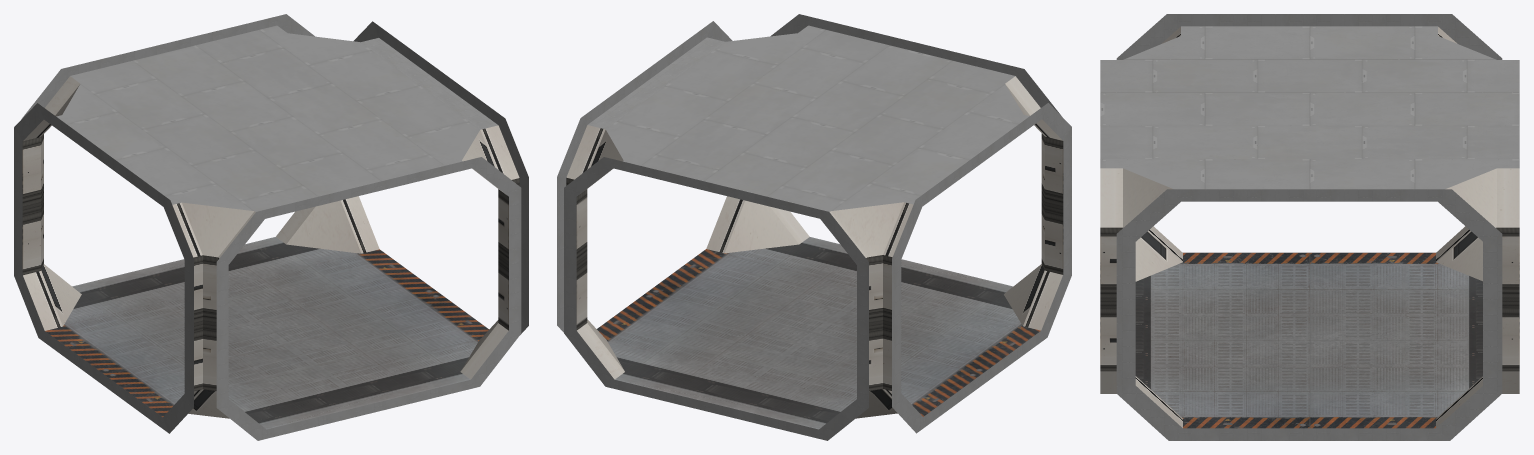
Rendered from lab_cross.FBX.
3 views of the same model, side by side, from view 1: azimuth 30°, elevation 25°; view 2: azimuth 150°, elevation 25°; view 3: azimuth 270°, elevation 25° (orthographic). The views are drawn at different scales.
Parts seen in each view (by area): view 1: Cross; view 2: Cross; view 3: Cross.
Part boxes in pixels (left/top/right/bottom): Cross: left=14, top=14, right=528, bottom=440; Cross: left=557, top=14, right=1071, bottom=440; Cross: left=1100, top=14, right=1519, bottom=440.
Size of the model in its own units: 2.91 by 1.94 by 2.94.
Materials: 3 (3 with a texture image).
